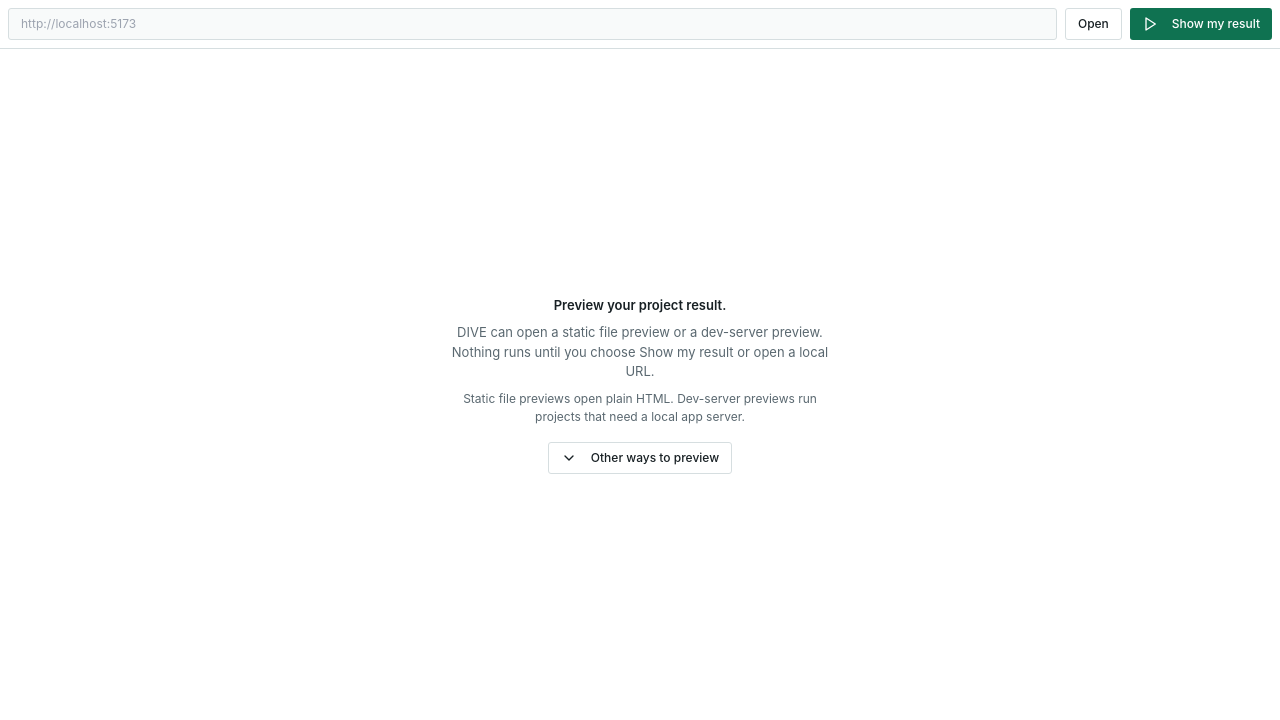
Scenario: PreviewTab › hides and shows the legacy preview mechanisms under Other ways to preview
Click the button with test id "preview-other-ways-toggle" at [640, 458], box [548, 442, 732, 474]
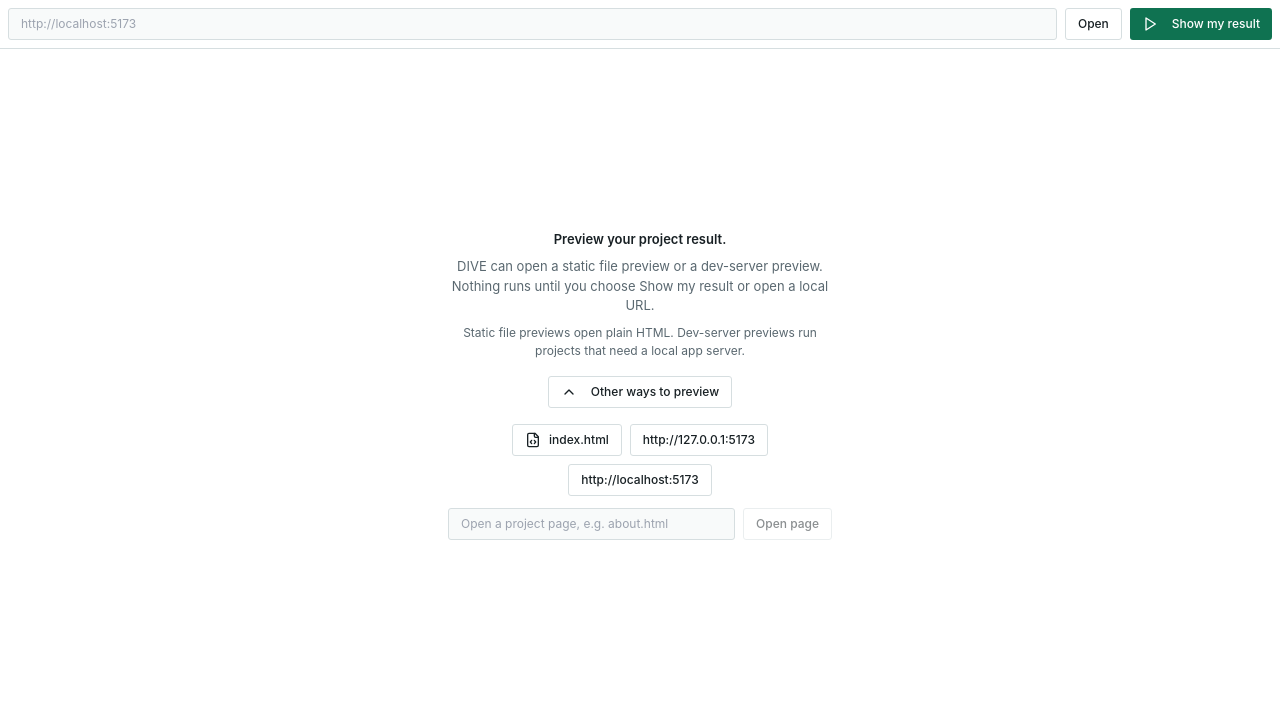
Expected: the button with test id "preview-static-candidate" is shown, [512, 424, 622, 456]
Expected: the number of buttons with test id "preview-candidate" is 2, [630, 424, 768, 456]; [568, 464, 712, 496]
Expected: the field with test id "preview-static-path-input" is shown, [448, 508, 735, 540]
Click the button with test id "preview-other-ways-toggle" at [640, 392], box [548, 376, 732, 408]
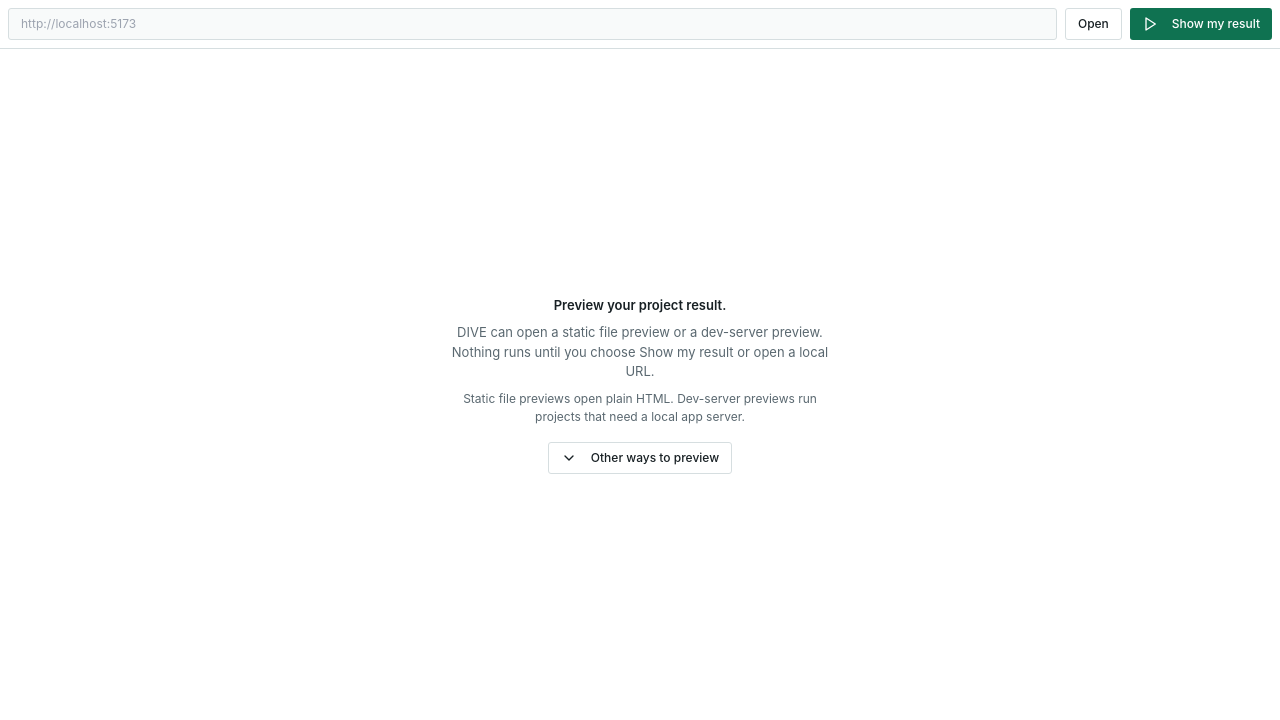
Expected: the button with test id "preview-static-candidate" is gone
Expected: the button with test id "preview-candidate" is gone
Expected: the field with test id "preview-static-path-input" is gone
